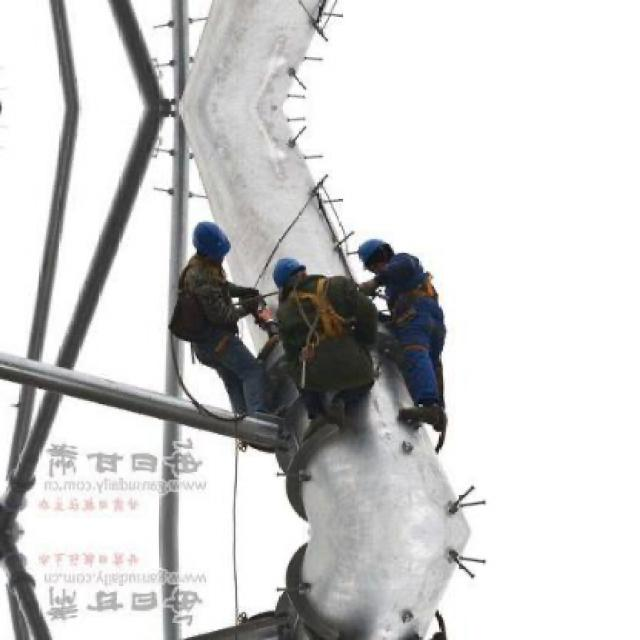helmet: (188, 212, 232, 278), (271, 253, 312, 296), (358, 233, 398, 274)
